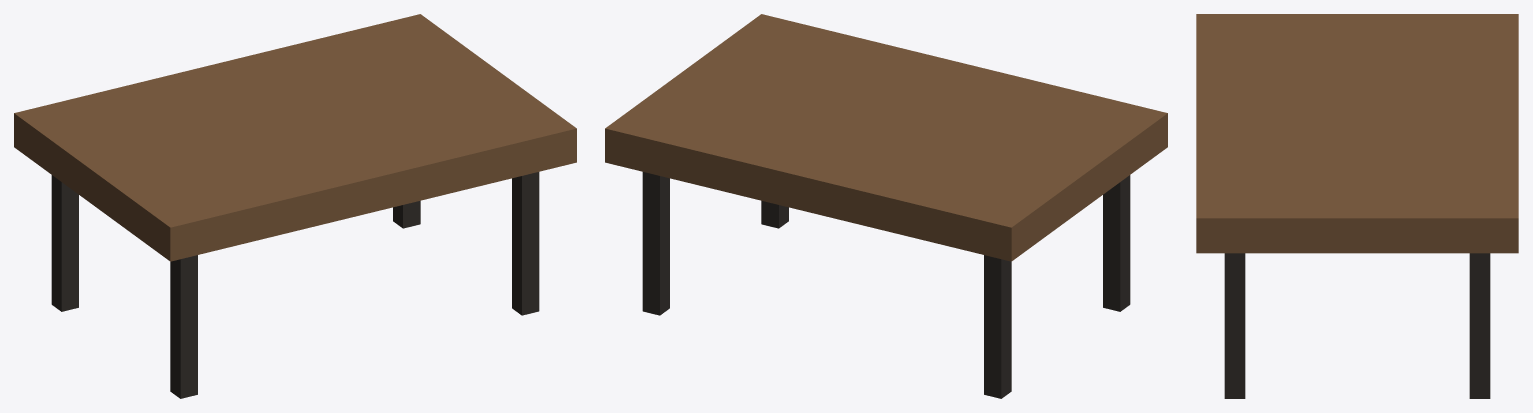
Rendered from nela.glb.
The picture shows the model from 3 angles, left to right: view 1: azimuth 30°, elevation 25°; view 2: azimuth 150°, elevation 25°; view 3: azimuth 270°, elevation 25°; orthographic projection. The views are drawn at different scales.
Parts seen in each view (by area): view 1: table-top, leg-4, leg-3, leg-1, leg-2; view 2: table-top, leg-2, leg-1, leg-3, leg-4; view 3: table-top, leg-2, leg-4.
Boxes of the visible parts, x1,y1,x2,y2 form: table-top: [14, 14, 576, 261]; leg-4: [512, 172, 539, 315]; leg-3: [170, 255, 197, 398]; leg-1: [51, 175, 78, 311]; leg-2: [393, 200, 420, 228]; table-top: [605, 14, 1167, 261]; leg-2: [642, 172, 669, 315]; leg-1: [984, 255, 1011, 398]; leg-3: [1103, 175, 1130, 311]; leg-4: [761, 200, 788, 228]; table-top: [1196, 14, 1518, 253]; leg-2: [1469, 253, 1490, 398]; leg-4: [1224, 253, 1245, 398].
Size of the model in its own units: 1.05 by 0.462 by 0.7.
